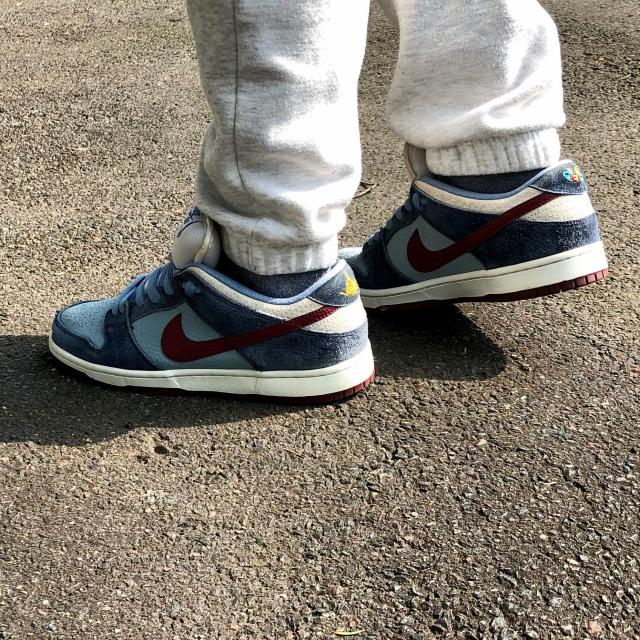shoe: (41, 203, 384, 414), (336, 136, 629, 328)
